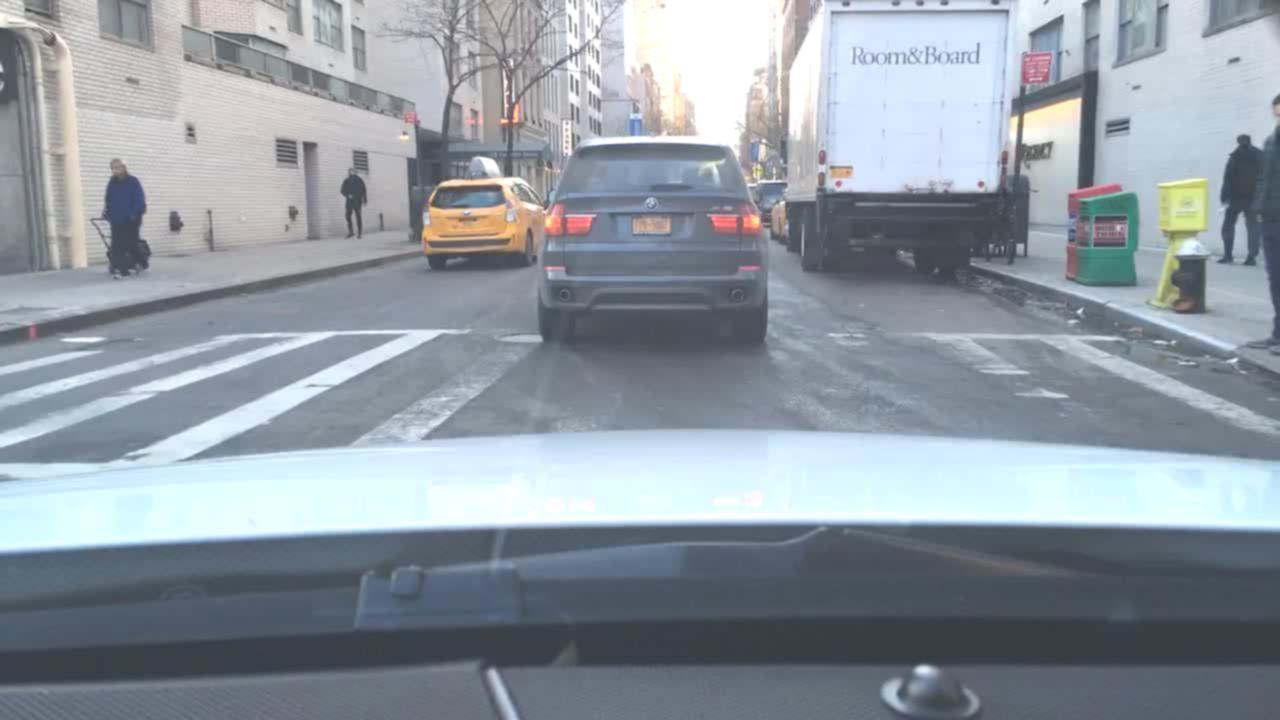bmw: (636, 194, 667, 216)
